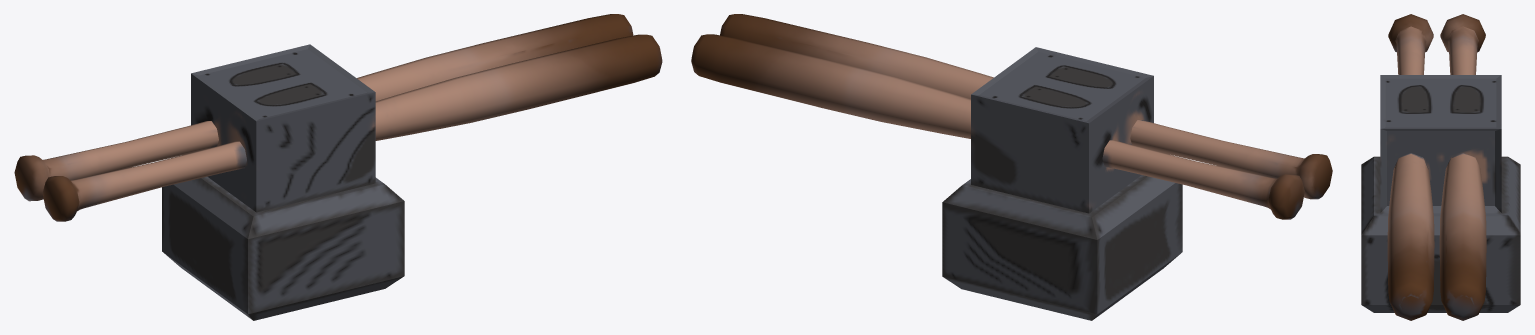
Rendered from BatePack.fbx.
3 renders of one model, left to right at view 1: azimuth 30°, elevation 25°; view 2: azimuth 150°, elevation 25°; view 3: azimuth 270°, elevation 25°, orthographic. The views are drawn at different scales.
Visible parts, largest first — view 1: Batpack_low; view 2: Batpack_low; view 3: Batpack_low.
Boxes of the visible parts, <box> form: Batpack_low: <box>14,14,662,320</box>; Batpack_low: <box>691,14,1332,320</box>; Batpack_low: <box>1361,14,1520,320</box>.
Size of the model in its own units: 488 by 151 by 120.
1 material, 1 textured.
